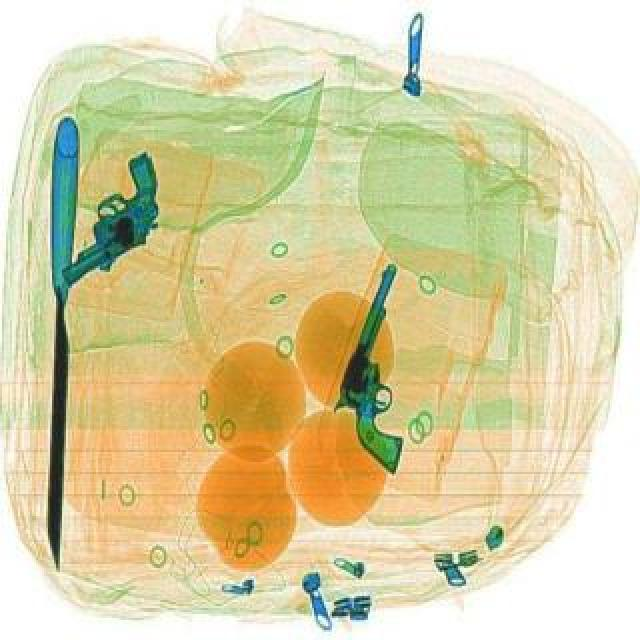gun: (308, 258, 472, 474), (20, 148, 192, 288)
knife: (40, 114, 78, 568)
